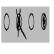not correct: (15, 7, 27, 42)
